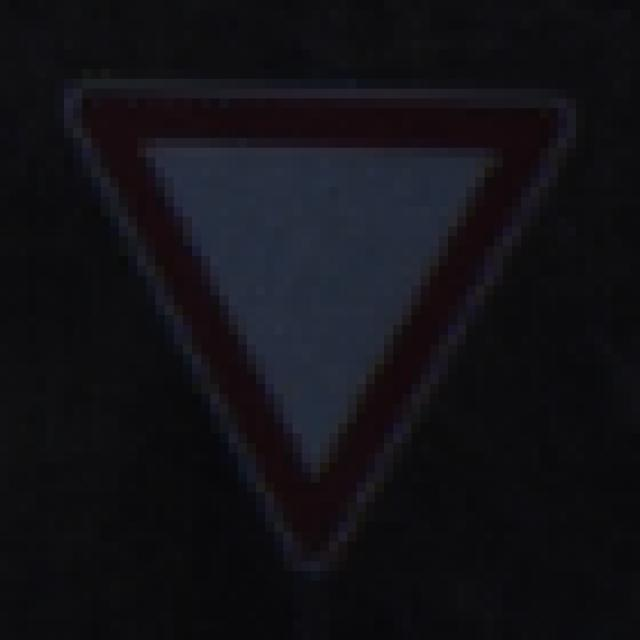Give Way: (56, 60, 586, 592)
